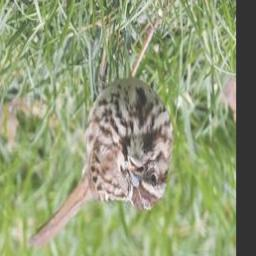Sparrow: (26, 33, 176, 252)
